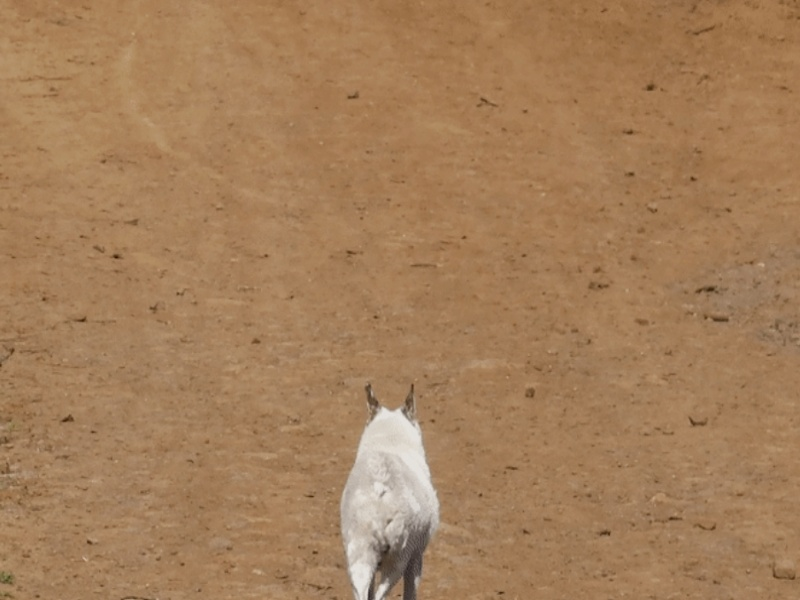dog: (335, 381, 444, 599)
